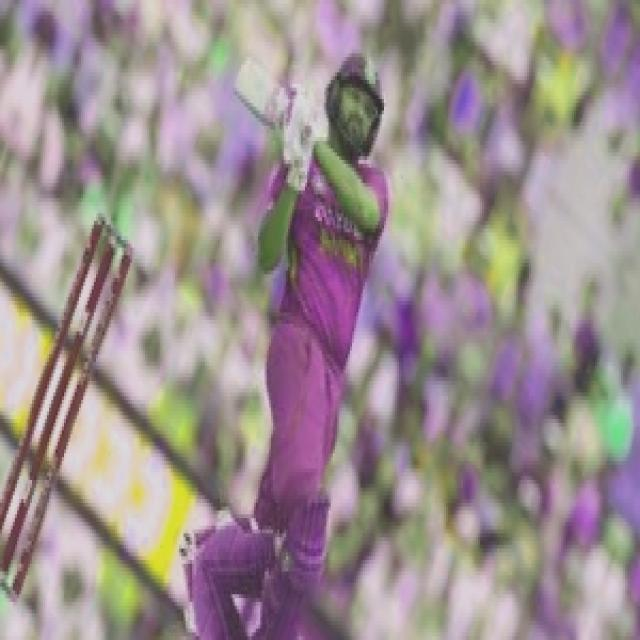toe: (235, 56, 254, 92)
